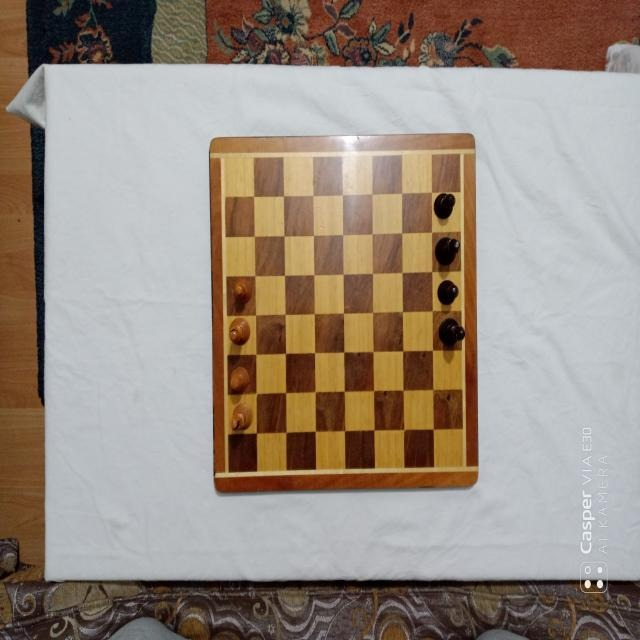black-bishop: (438, 317, 466, 347), (434, 236, 461, 266)
black-pawn: (436, 278, 459, 305), (434, 192, 456, 220)
white-bishop: (228, 401, 253, 431), (227, 317, 250, 345)
white-pawn: (229, 366, 250, 394), (232, 278, 252, 304)
